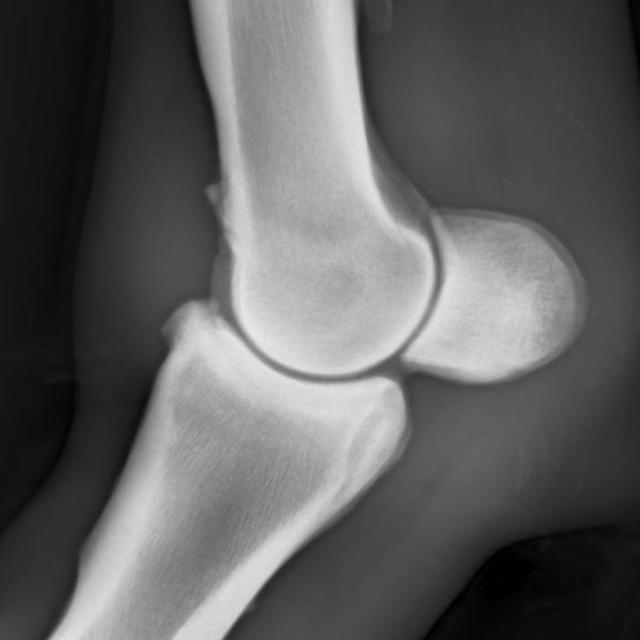bone remodeling: (150, 288, 235, 356), (194, 165, 244, 227)
